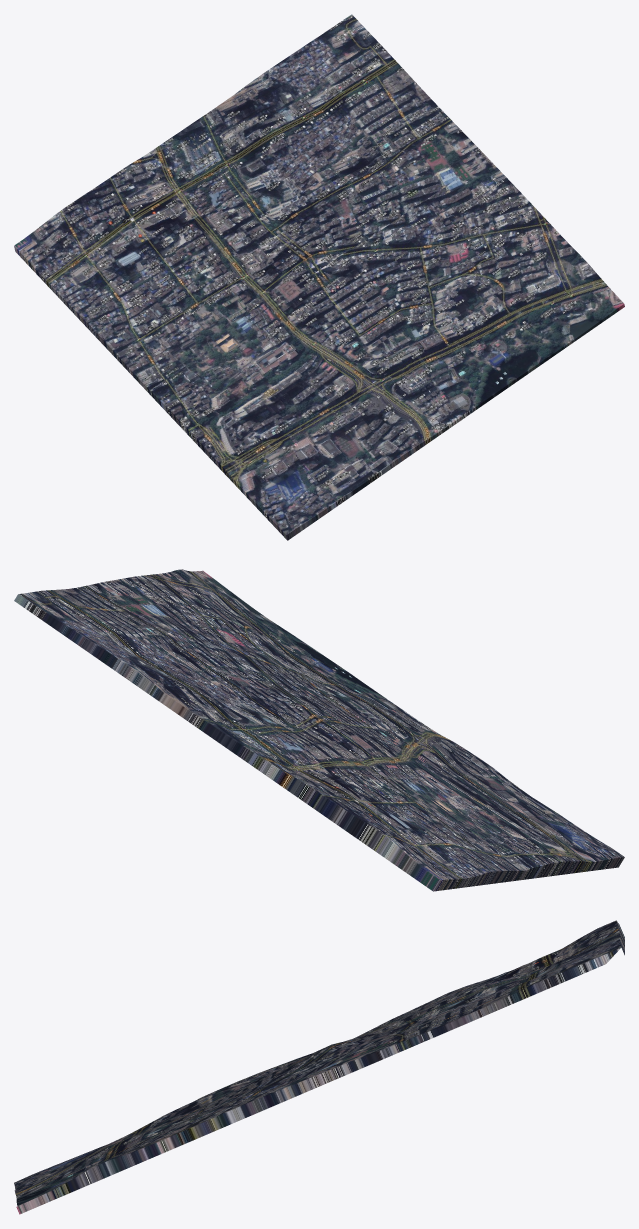
The picture shows the model from 3 angles, top to bottom: view 1: azimuth 30°, elevation 25°; view 2: azimuth 150°, elevation 25°; view 3: azimuth 270°, elevation 25°; orthographic projection. The views are drawn at different scales.
Parts seen in each view (by area): view 1: 1_4_4; view 2: 1_4_4; view 3: 1_4_4.
Boxes of the visible parts, <box> form: 1_4_4: <box>14,14,624,540</box>; 1_4_4: <box>14,569,624,891</box>; 1_4_4: <box>14,920,624,1214</box>.
Size of the model in its own units: 1233 by 898 by 1129.
Materials: 1 (1 with a texture image).
